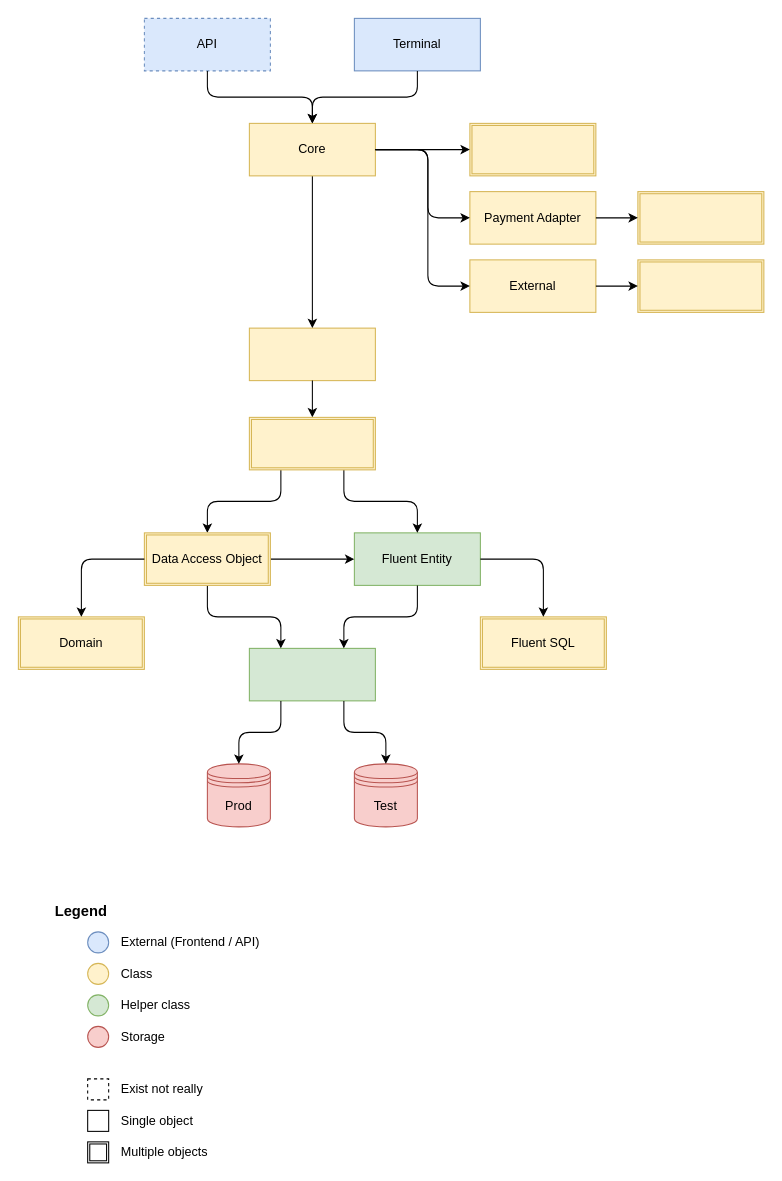
The diagram is 782 pixels wide and 1181 high, and some of its shapes have lost their labels. The box of each missing label's shape, as (x1, y1, x2, y2) in pixels:
Data Access Object Helper: (248, 647, 375, 701)
DTO: (469, 122, 596, 176)
Payment: (637, 191, 764, 244)
Repository: (248, 416, 375, 470)
Unit of Work: (248, 327, 375, 381)
Validation: (637, 259, 764, 312)
